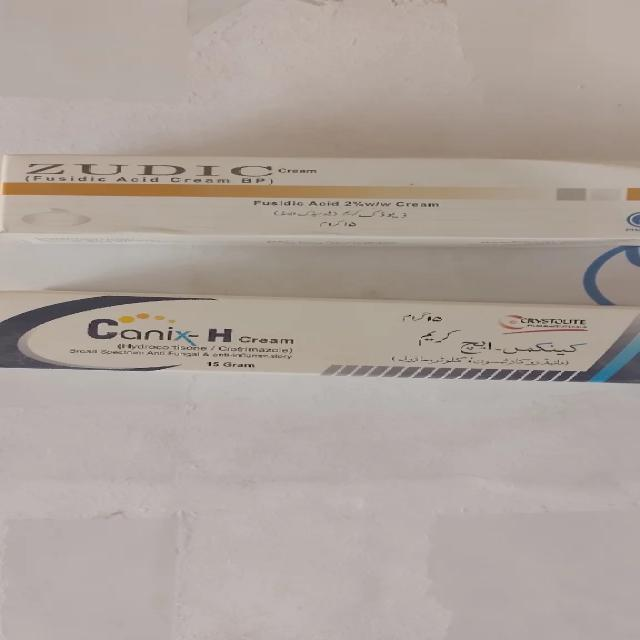drug-name: (83, 318, 234, 347)
